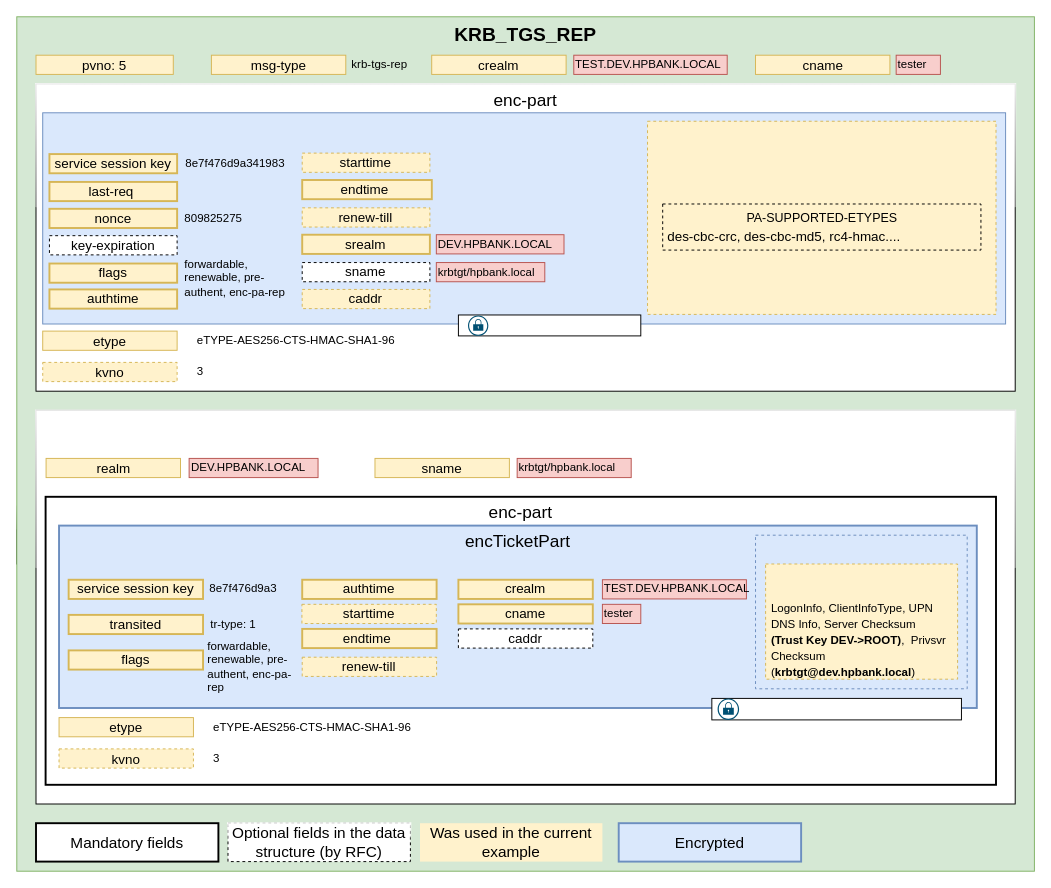
Image size: 1051x888. Some labels were removed from this diagram. Here are the shapes that lost their labels. From the top down, the box of each, then its label:
(42, 112, 1006, 324): EncTGSRepPart
(647, 120, 996, 314): enc-padata
(457, 314, 641, 336): user (tester) session key
(35, 409, 1015, 804): Ticket (TGS)
(755, 534, 967, 689): authorization-data
(765, 563, 958, 679): PAC (tester)
(711, 697, 961, 720): Trust kerberos key (DEV->ROOT)
